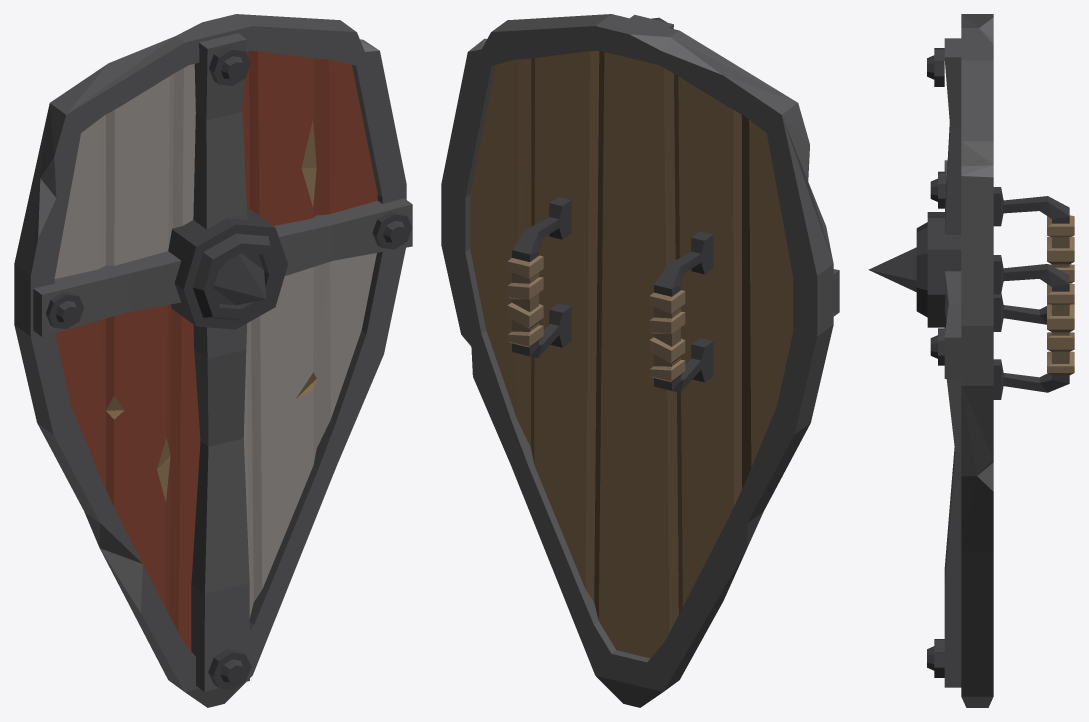
Rendered from adventure_SM_Wep_Sheild_01.gltf.
3 renders of one model, left to right at view 1: azimuth 30°, elevation 25°; view 2: azimuth 150°, elevation 25°; view 3: azimuth 270°, elevation 25°, orthographic. The views are drawn at different scales.
Parts seen in each view (by area): view 1: SM_Wep_Sheild_01; view 2: SM_Wep_Sheild_01; view 3: SM_Wep_Sheild_01.
Boxes of the visible parts, <box> form: SM_Wep_Sheild_01: <box>14,14,412,707</box>; SM_Wep_Sheild_01: <box>441,14,839,707</box>; SM_Wep_Sheild_01: <box>868,14,1074,707</box>.
Size of the model in its own units: 0.4935 by 0.845 by 0.2396.
1 material, 1 textured.
